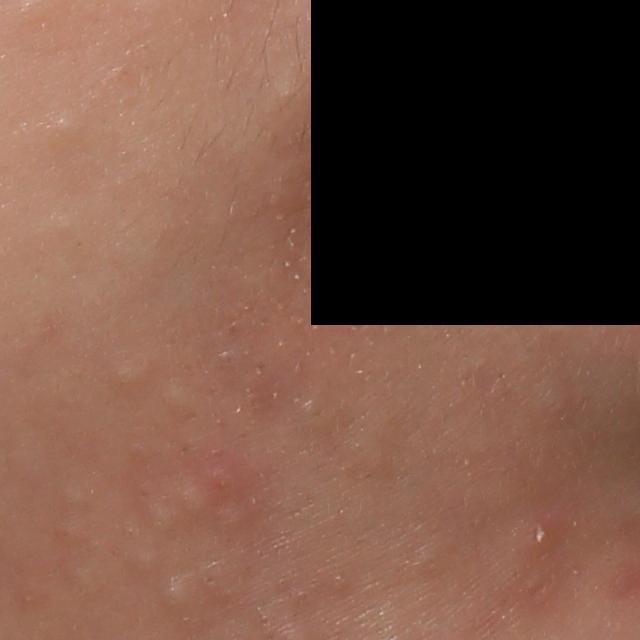comedo: (115, 361, 161, 391), (161, 575, 193, 612), (54, 114, 79, 140)
pustule: (527, 524, 553, 550)
